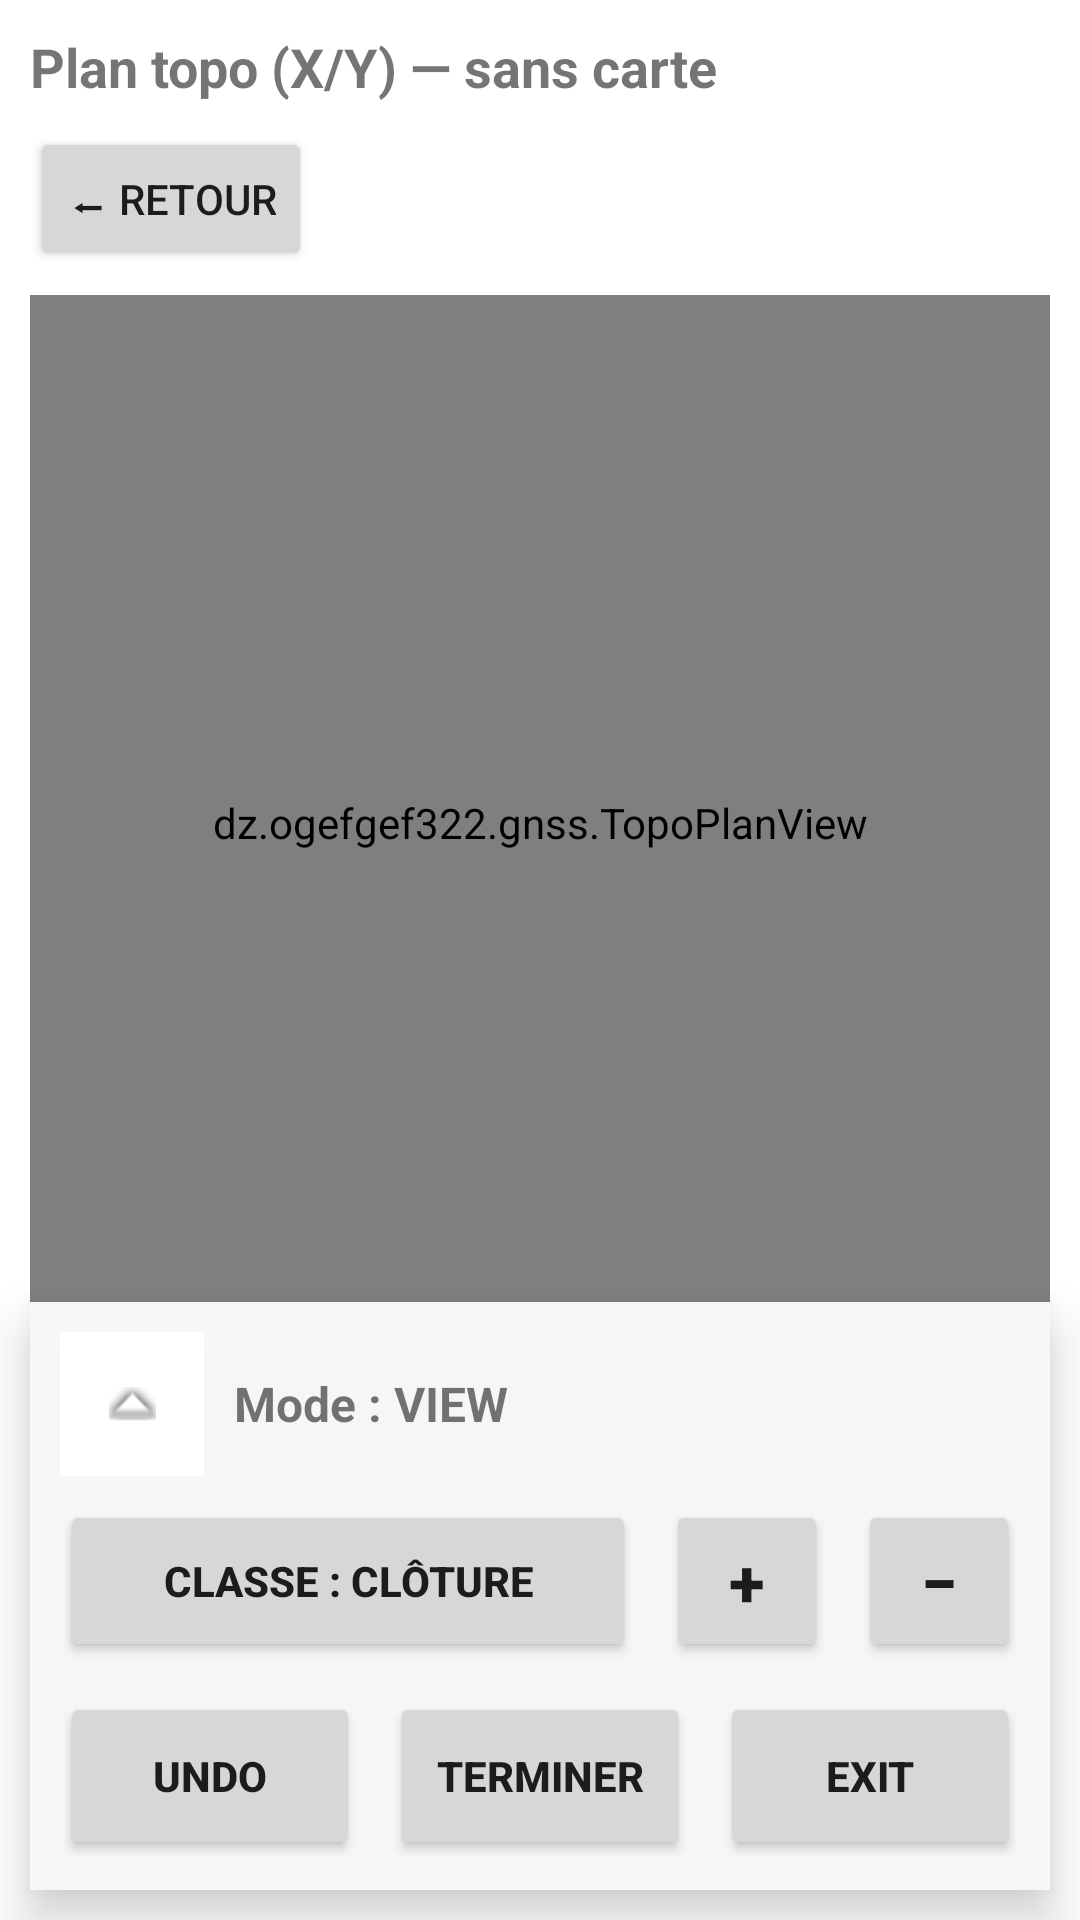

Screen size 1080*1920. Icon name, then its box in pixels as detection(x1, y1, x2, y2):
Déplier/replier: detection(109, 1388, 156, 1420)
